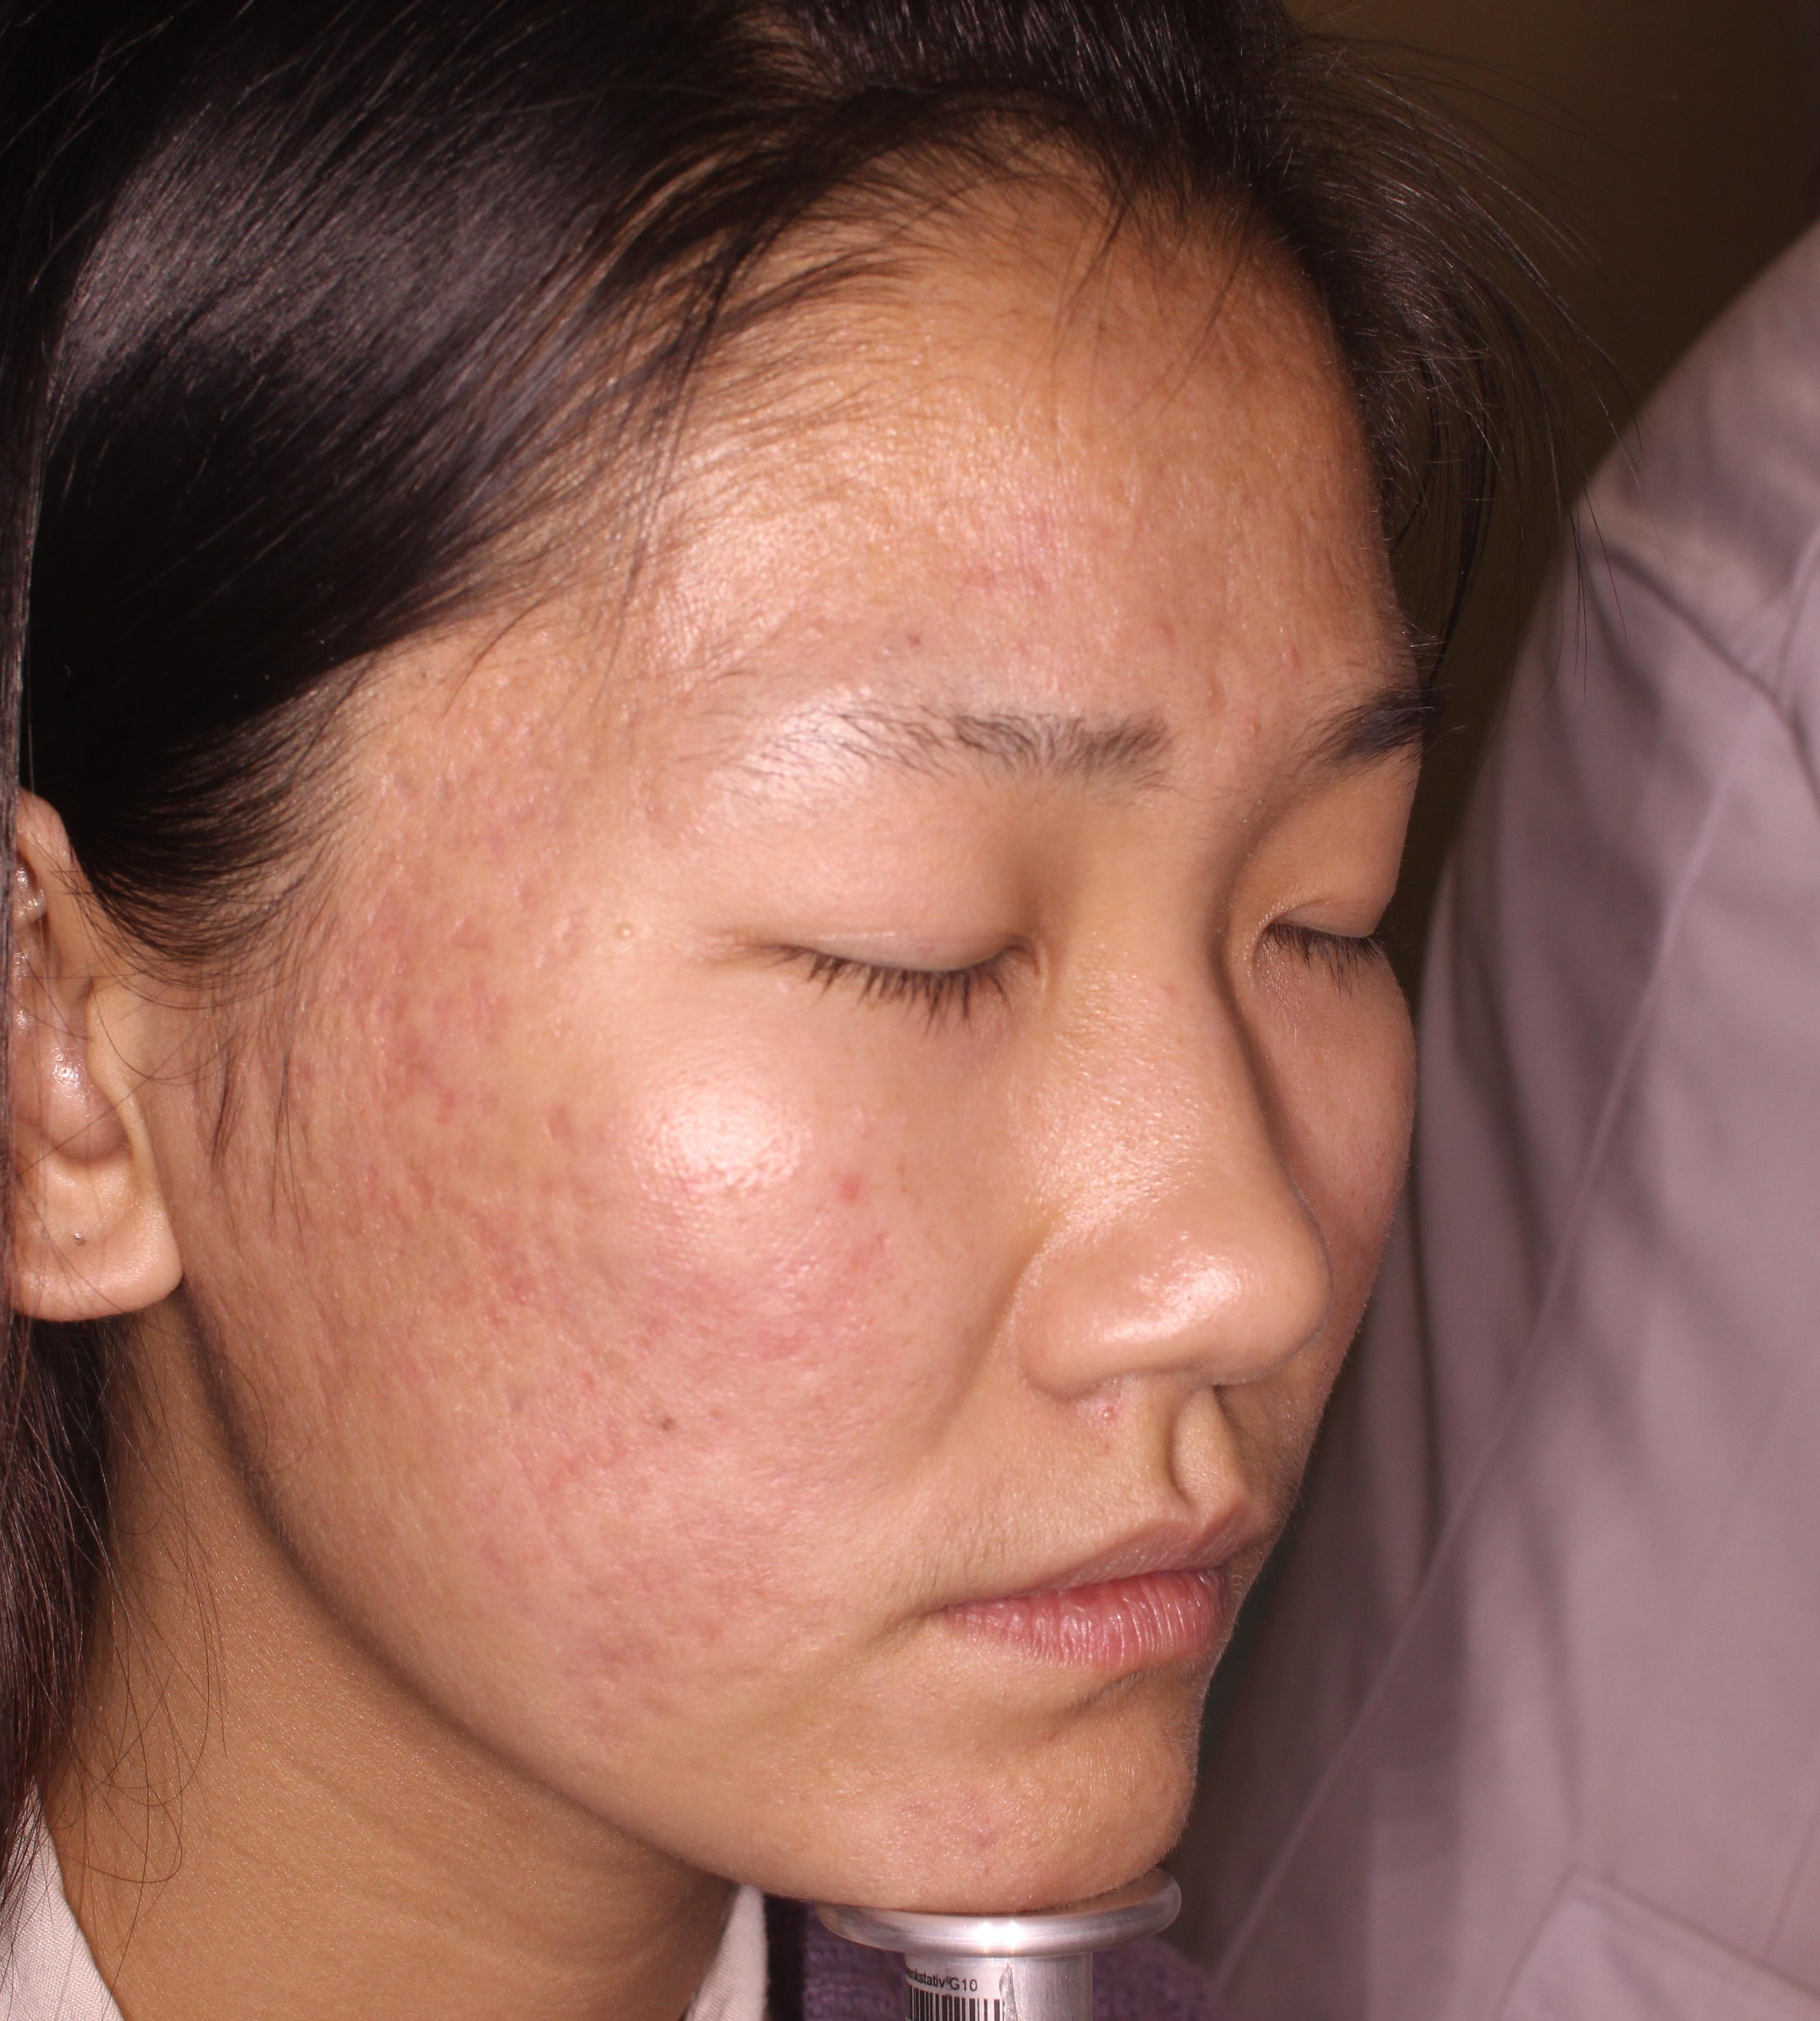fore: (1131, 599, 1207, 676)
